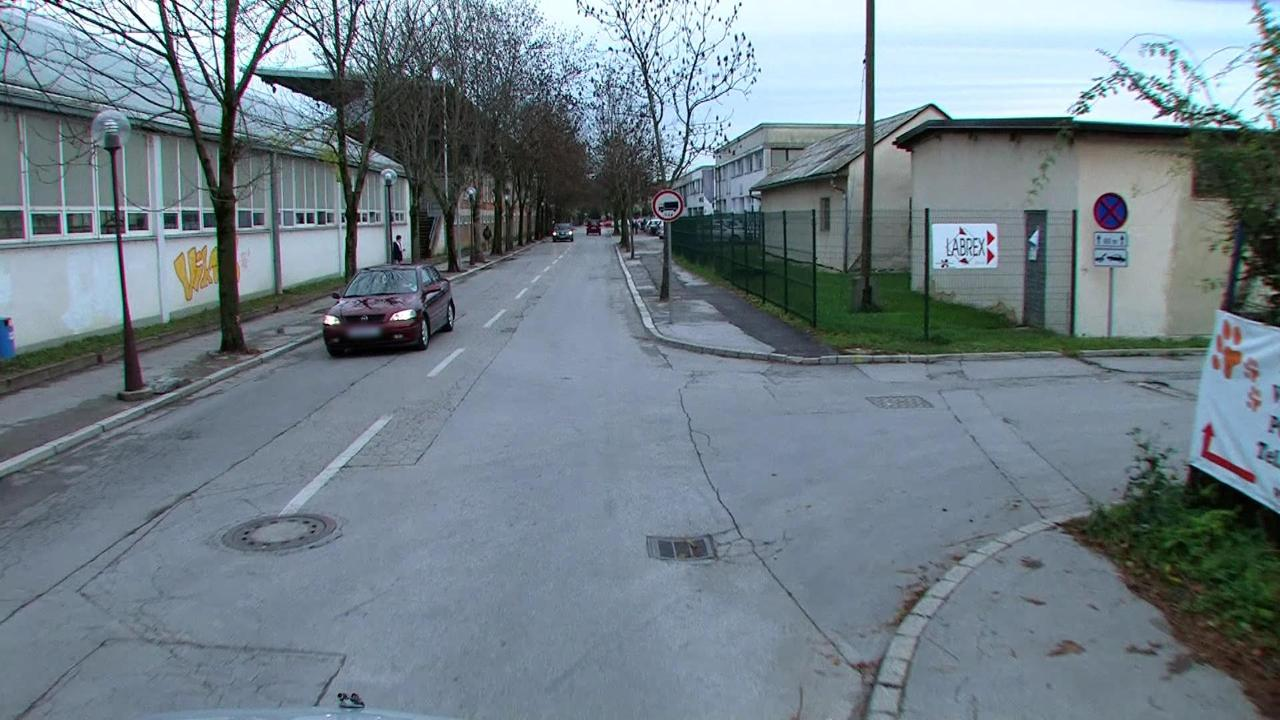Rectangle: (1091, 232, 1131, 248), (1094, 249, 1128, 265)
Round: (1092, 192, 1130, 232), (652, 189, 684, 221)
